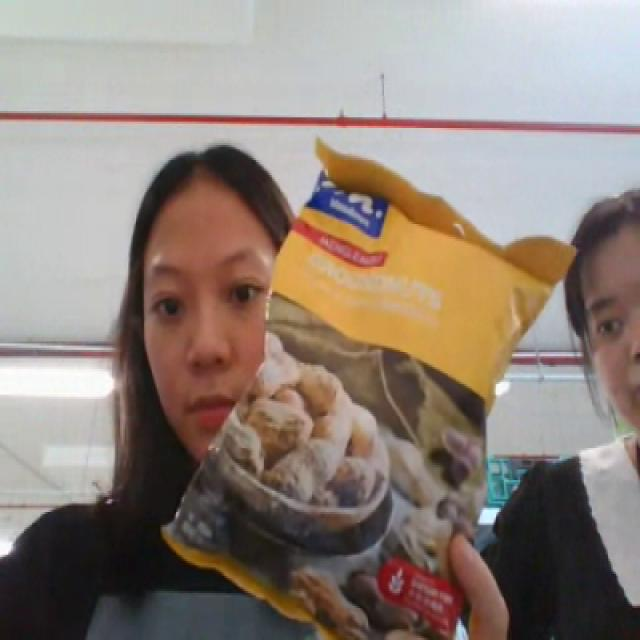object_name: (202, 146, 491, 640)
